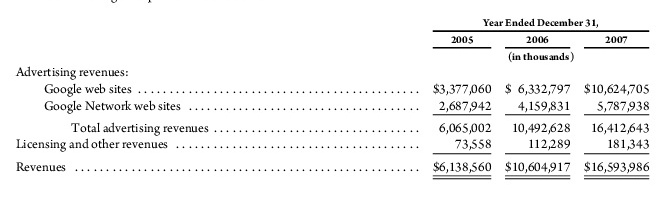table: (0, 0, 667, 201)
